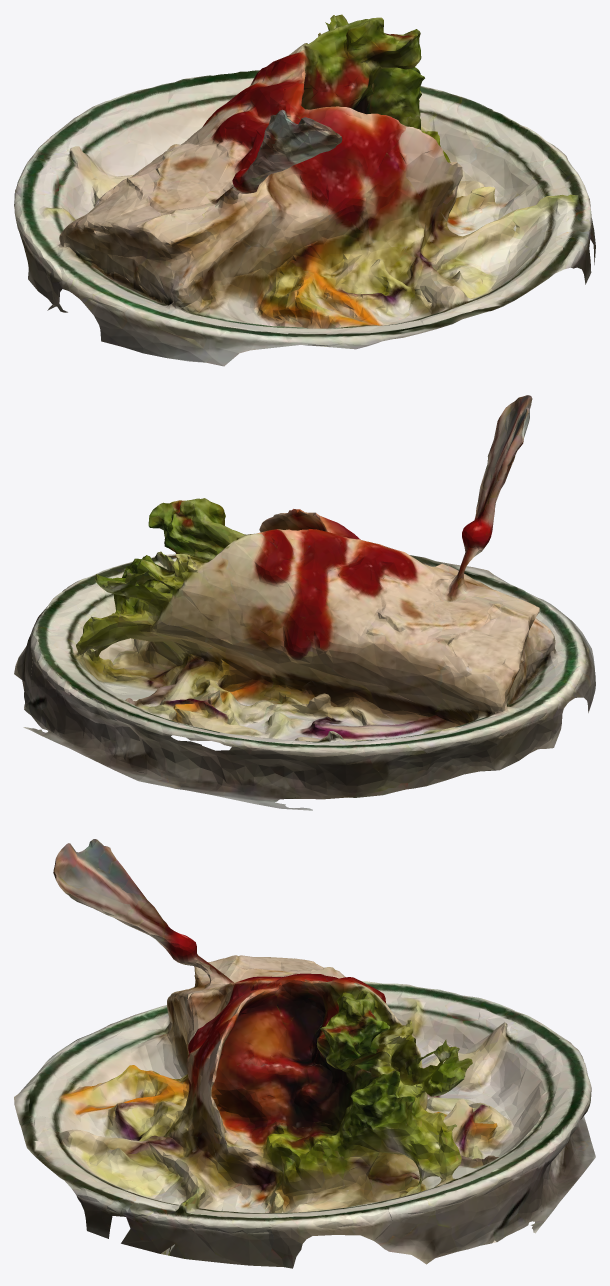
3 views of the same model, one above another, from view 1: azimuth 30°, elevation 25°; view 2: azimuth 150°, elevation 25°; view 3: azimuth 270°, elevation 25° (orthographic). The views are drawn at different scales.
Bounding box in the file's own units: 1.36 × 0.6159 × 1.32.
Materials: 1 (1 with a texture image).
